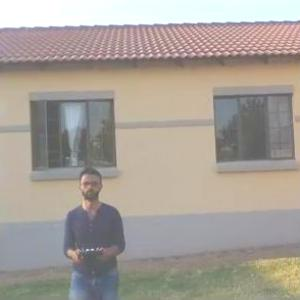follow: (58, 162, 130, 299)
